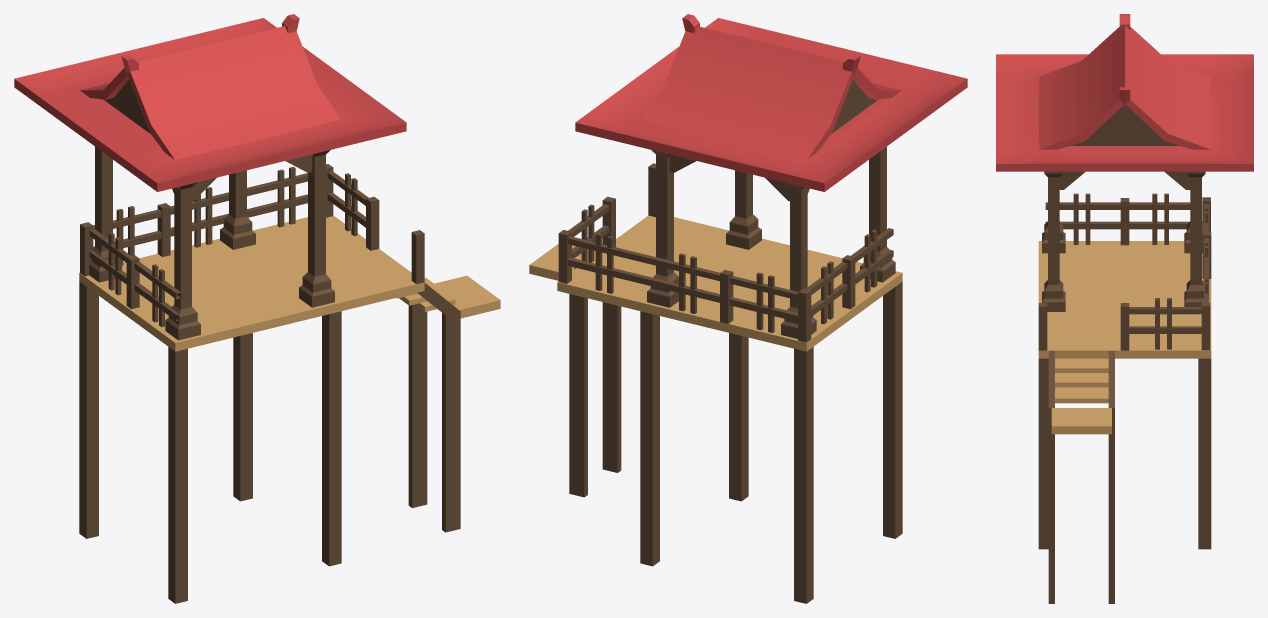
Rendered from Gazebo.fbx.
3 views of the same model, side by side, from view 1: azimuth 30°, elevation 25°; view 2: azimuth 150°, elevation 25°; view 3: azimuth 270°, elevation 25° (orthographic). The views are drawn at different scales.
Visible parts, largest first — view 1: GazeboPlatform, Gazebo.001; view 2: GazeboPlatform, Gazebo.001; view 3: Gazebo.001, GazeboPlatform.
Part boxes in pixels (x1,y1,x2,y2): GazeboPlatform: (79, 164, 500, 603); Gazebo.001: (14, 14, 406, 340); GazeboPlatform: (529, 163, 902, 603); Gazebo.001: (575, 14, 967, 338); Gazebo.001: (996, 14, 1253, 311); GazeboPlatform: (1038, 193, 1211, 603).
Size of the model in its own units: 450 by 588 by 298.
